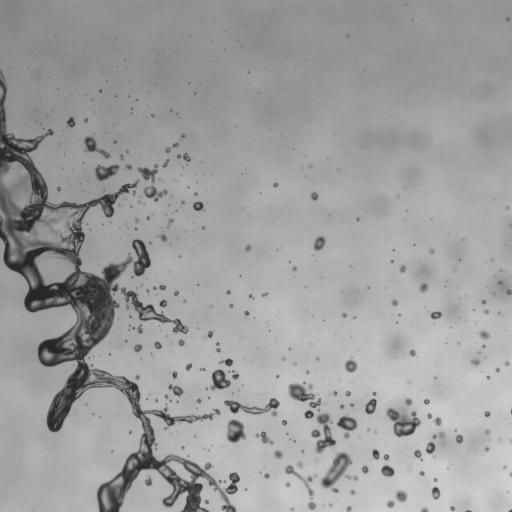droplet: (320, 451, 357, 492), (137, 164, 167, 201), (386, 408, 420, 437), (288, 381, 321, 409), (337, 414, 357, 438), (226, 419, 246, 442), (210, 369, 230, 390), (94, 164, 119, 180), (344, 357, 357, 372), (168, 384, 183, 396), (365, 398, 376, 414), (313, 236, 325, 250), (381, 464, 394, 476), (425, 442, 435, 457), (395, 490, 407, 502), (431, 486, 440, 499), (219, 358, 232, 366), (193, 201, 204, 210), (430, 311, 441, 320), (479, 330, 489, 339), (419, 283, 428, 292), (67, 117, 75, 127), (414, 450, 422, 460), (144, 475, 152, 485), (304, 410, 313, 418), (455, 434, 463, 443), (372, 449, 379, 459), (310, 192, 318, 200), (471, 358, 479, 366), (230, 371, 238, 379), (433, 417, 441, 425), (274, 450, 282, 458), (399, 264, 406, 273), (158, 234, 166, 241), (159, 300, 167, 307), (154, 341, 161, 349), (134, 344, 142, 351), (405, 398, 412, 406), (386, 500, 394, 507), (296, 461, 303, 468), (361, 466, 368, 473), (391, 299, 398, 305), (178, 339, 184, 346), (409, 349, 415, 356), (185, 363, 191, 370), (245, 245, 251, 251), (207, 331, 213, 337), (484, 411, 490, 417), (383, 454, 389, 460), (172, 371, 177, 378), (420, 507, 428, 511), (125, 164, 131, 169), (429, 248, 434, 254), (159, 285, 165, 290), (244, 310, 249, 316), (345, 390, 350, 396), (424, 398, 429, 404), (165, 147, 170, 152), (273, 182, 278, 187), (506, 289, 511, 294), (262, 292, 267, 297), (248, 294, 253, 299), (264, 473, 269, 478), (285, 482, 290, 487), (346, 506, 351, 511), (172, 143, 178, 147), (292, 266, 296, 271), (484, 309, 488, 314), (342, 313, 347, 317), (216, 347, 220, 352), (505, 361, 509, 366), (333, 390, 337, 395), (427, 413, 431, 418), (282, 420, 286, 425), (485, 429, 489, 434), (419, 471, 424, 475), (350, 490, 355, 494), (450, 506, 454, 511), (135, 218, 139, 222), (174, 291, 178, 295), (226, 290, 230, 294), (135, 375, 139, 379), (197, 399, 201, 403), (340, 404, 344, 408), (485, 447, 489, 451), (120, 154, 123, 158), (181, 200, 184, 204), (482, 300, 485, 304), (200, 367, 204, 370), (495, 368, 499, 371), (509, 438, 511, 443), (84, 119, 87, 122), (181, 134, 184, 137), (57, 187, 60, 190), (146, 216, 149, 219), (499, 281, 502, 284), (229, 304, 232, 307), (350, 403, 353, 406), (434, 478, 437, 481), (205, 500, 208, 503), (509, 472, 511, 476), (291, 507, 293, 511), (151, 114, 154, 116), (114, 140, 116, 143), (356, 218, 359, 220), (153, 287, 156, 289), (216, 343, 219, 345), (482, 345, 485, 347), (282, 357, 285, 359), (306, 371, 309, 373), (276, 375, 279, 377), (434, 376, 436, 379), (487, 376, 489, 379), (373, 392, 375, 395), (367, 428, 369, 431), (181, 446, 184, 448), (508, 509, 511, 511), (506, 18, 508, 20), (126, 150, 128, 152), (391, 260, 393, 262), (183, 300, 185, 302), (317, 358, 319, 360), (148, 394, 150, 396), (155, 399, 157, 401), (330, 504, 332, 506)
ligament: (0, 70, 237, 511), (285, 465, 316, 509), (224, 398, 279, 416), (311, 412, 335, 453), (84, 136, 110, 158), (255, 431, 273, 444), (177, 153, 190, 162), (130, 325, 142, 333), (432, 432, 444, 439), (167, 218, 174, 227), (162, 159, 168, 167), (164, 395, 169, 400), (465, 510, 470, 511), (510, 409, 511, 412)
